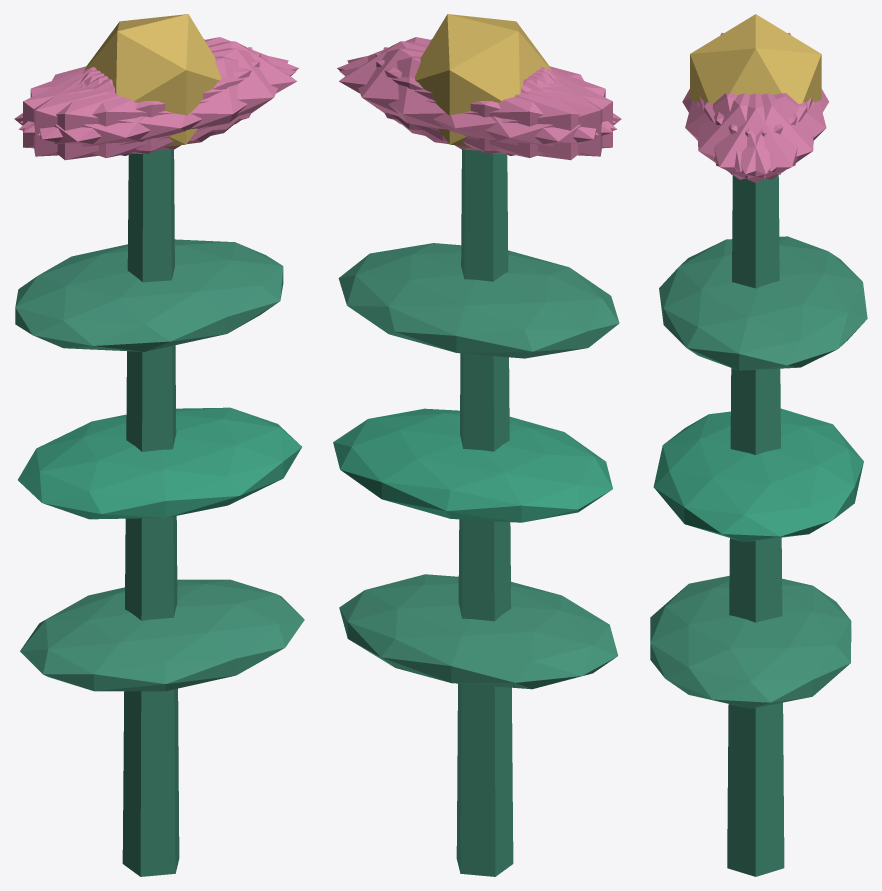
File: polygonum-arenastrum.glb
3 views of the same model, side by side, from view 1: azimuth 30°, elevation 25°; view 2: azimuth 150°, elevation 25°; view 3: azimuth 270°, elevation 25° (orthographic).
Visible parts, largest first — view 1: stem, leaf0, leaf1, leaf2, center, petal1, petal6, petal2, petal5, petal7, petal0, petal4 (+2 smaller); view 2: stem, leaf2, leaf1, leaf0, center, petal8, petal3, petal7, petal4, petal2, petal0, petal5 (+2 smaller); view 3: stem, leaf1, leaf2, leaf0, center, petal0, petal4, petal5, petal1, petal8.
Part boxes in pixels (bbox=[...]): stem: bbox=[122, 149, 179, 876]; leaf0: bbox=[20, 579, 304, 691]; leaf1: bbox=[18, 407, 301, 519]; leaf2: bbox=[15, 239, 283, 351]; center: bbox=[84, 14, 221, 146]; petal1: bbox=[18, 56, 296, 157]; petal6: bbox=[14, 68, 215, 160]; petal2: bbox=[33, 47, 252, 156]; petal5: bbox=[37, 48, 288, 151]; petal7: bbox=[23, 53, 260, 154]; petal0: bbox=[84, 41, 296, 141]; petal4: bbox=[20, 37, 298, 132]; stem: bbox=[456, 149, 513, 876]; leaf2: bbox=[338, 243, 619, 358]; leaf1: bbox=[333, 408, 612, 522]; leaf0: bbox=[339, 574, 618, 689]; center: bbox=[415, 14, 551, 146]; petal8: bbox=[339, 56, 617, 157]; petal3: bbox=[420, 68, 621, 160]; petal7: bbox=[383, 47, 602, 156]; petal4: bbox=[347, 48, 598, 151]; petal2: bbox=[375, 53, 612, 154]; petal0: bbox=[339, 41, 551, 141]; petal5: bbox=[337, 37, 615, 132]; stem: bbox=[727, 175, 784, 876]; leaf1: bbox=[653, 408, 863, 542]; leaf2: bbox=[659, 236, 867, 370]; leaf0: bbox=[650, 575, 851, 708]; center: bbox=[690, 14, 821, 103]; petal0: bbox=[699, 93, 812, 182]; petal4: bbox=[704, 93, 813, 179]; petal5: bbox=[697, 93, 807, 179]; petal1: bbox=[685, 93, 797, 171]; petal8: bbox=[714, 93, 826, 171].
Size of the model in its own units: 0.1452 by 0.4277 by 0.1011.
